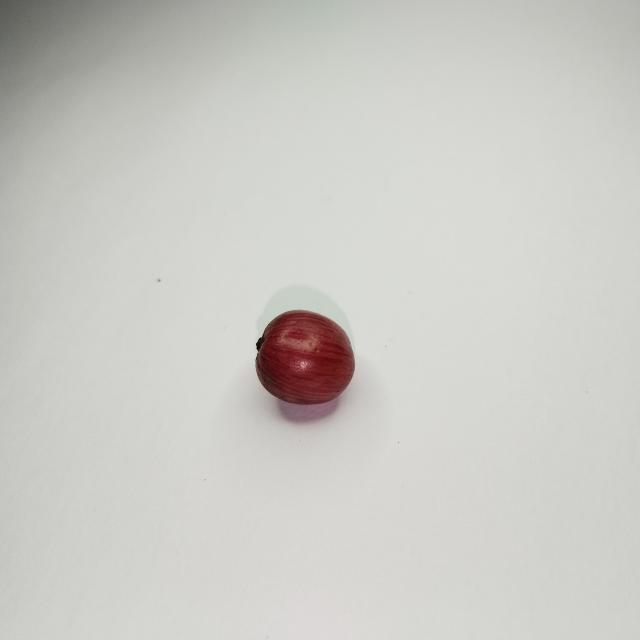Sano: (256, 311, 353, 404)
